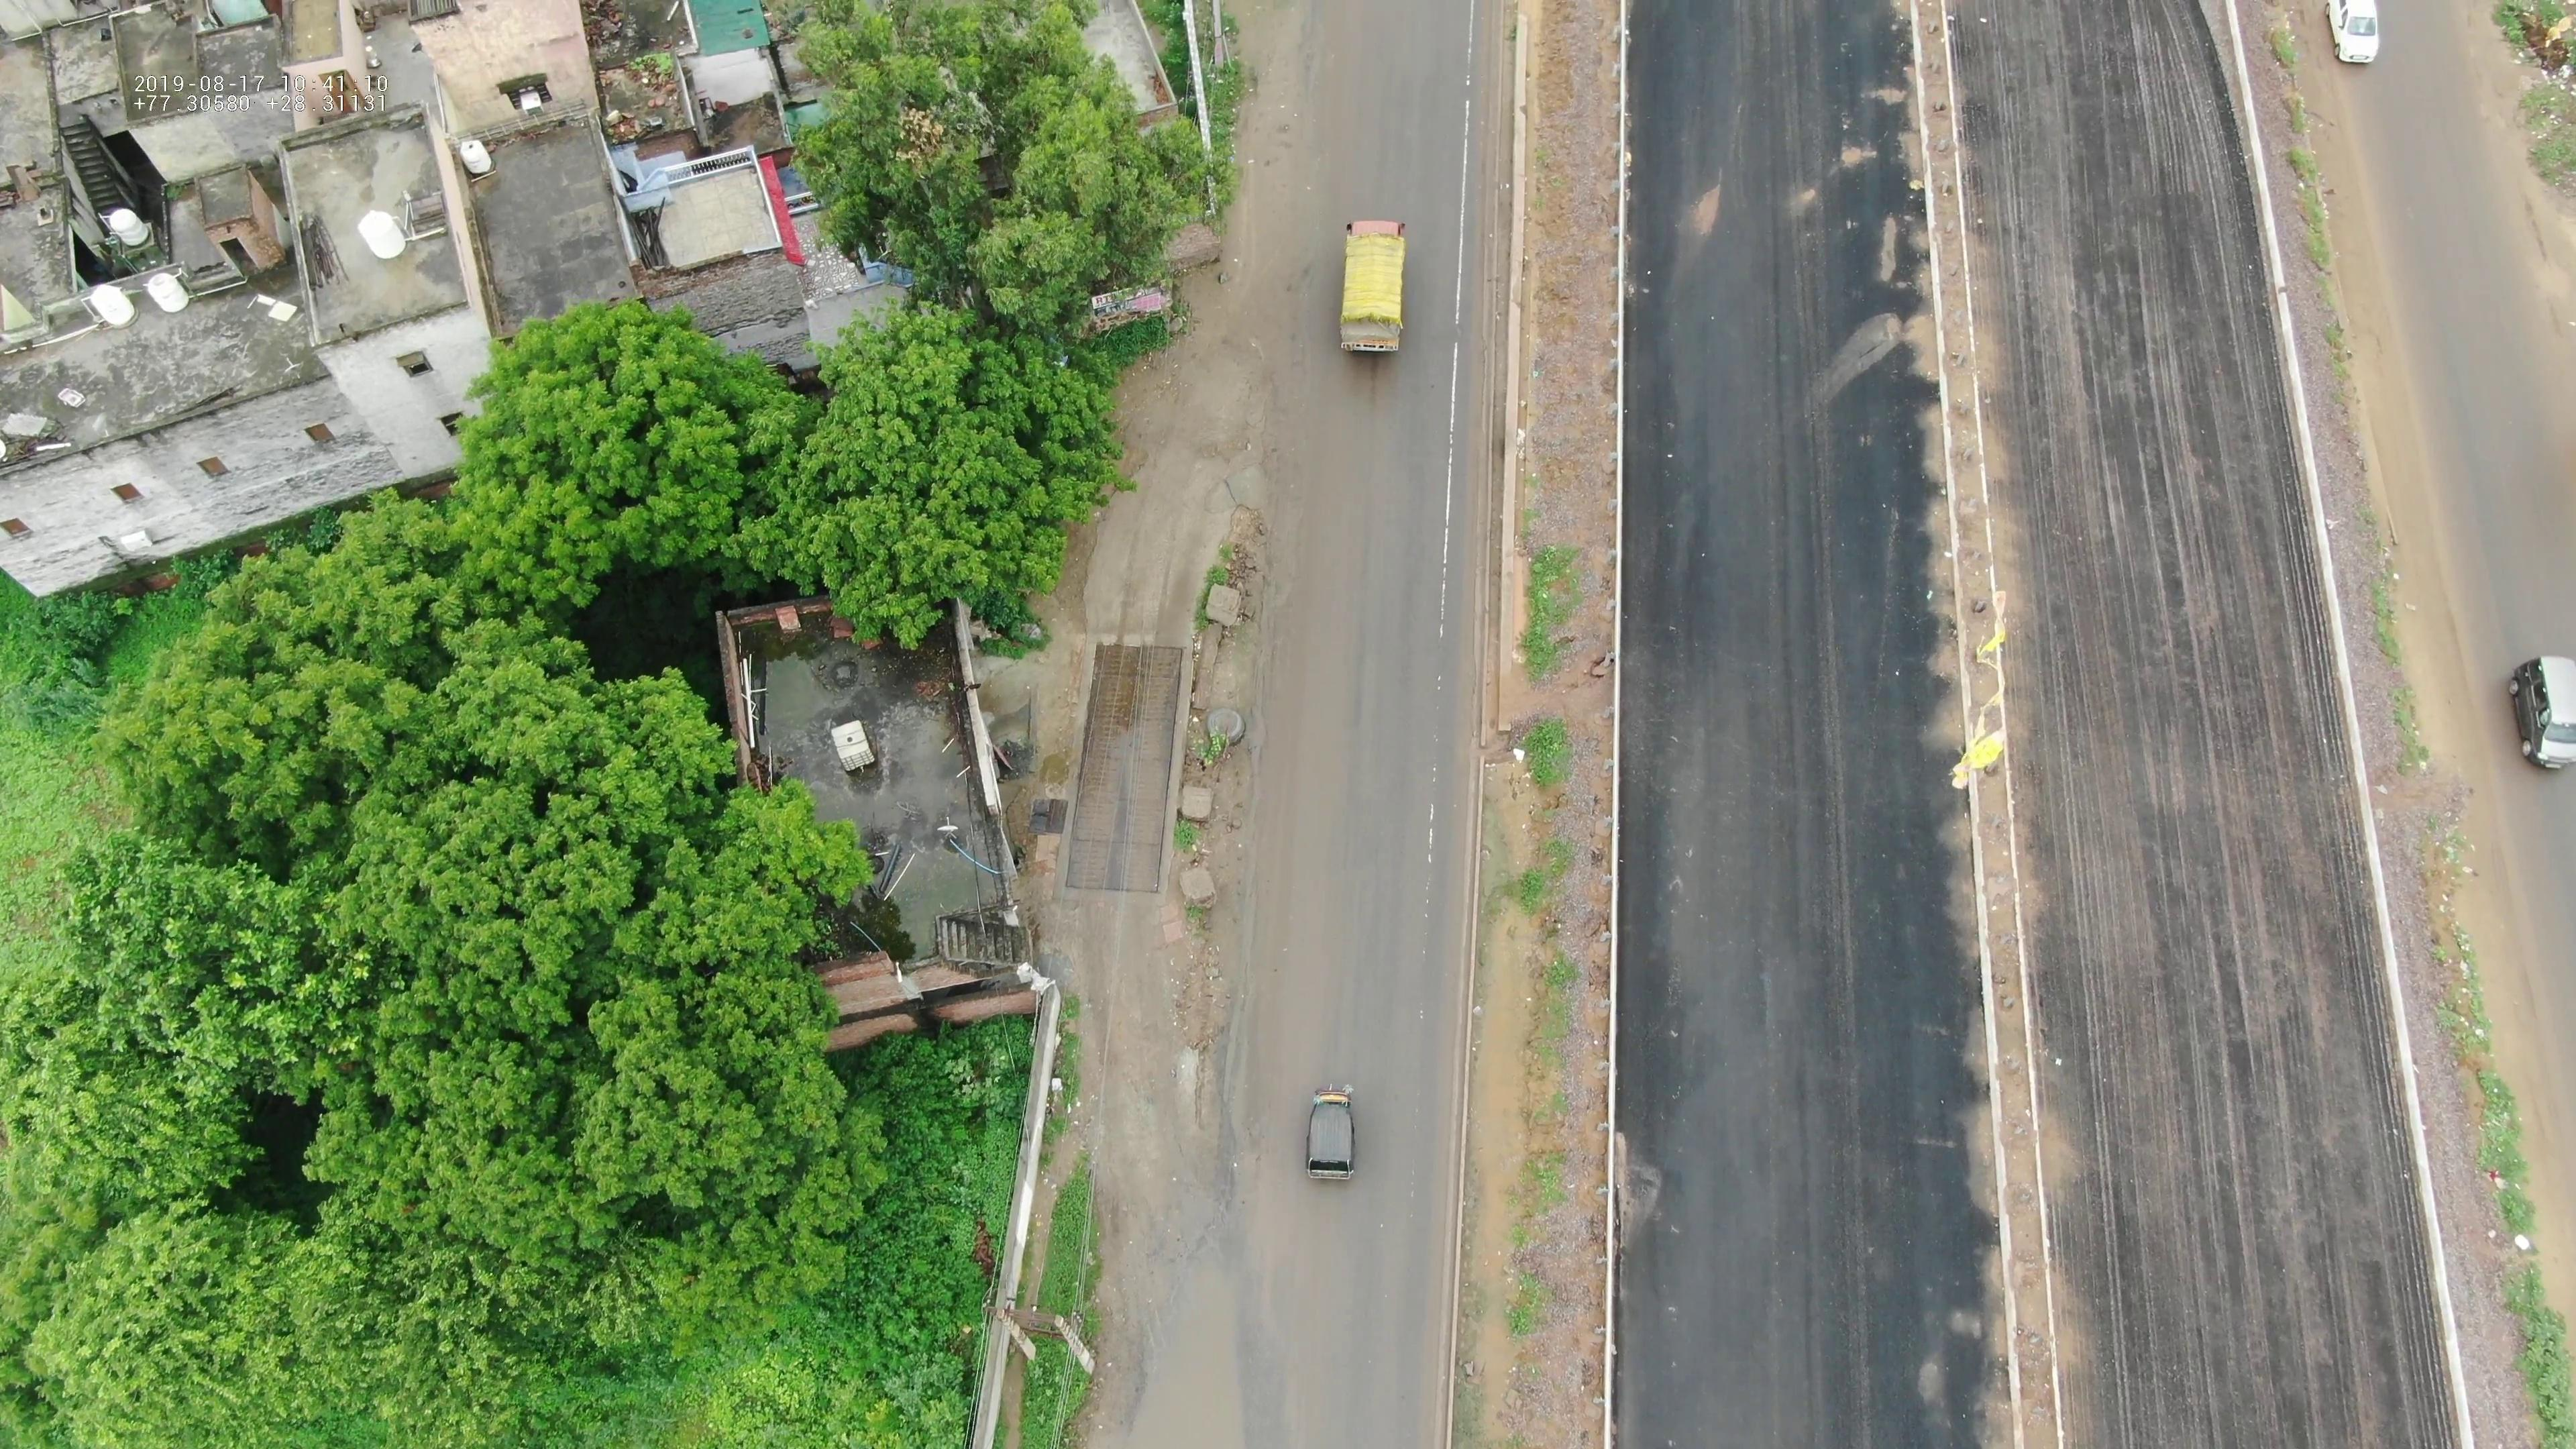Waterlogging: (1090, 980, 1221, 1398)
